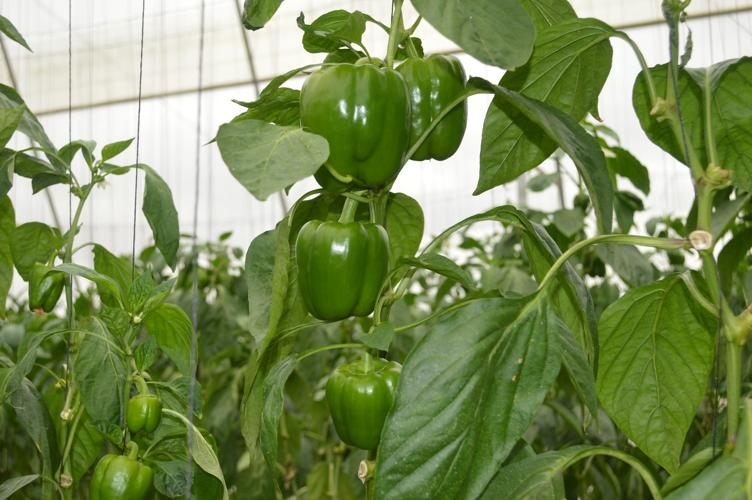BellPepper: (293, 55, 409, 198), (294, 209, 399, 330), (326, 353, 414, 459), (395, 48, 468, 163), (68, 437, 160, 498), (118, 390, 171, 439)
